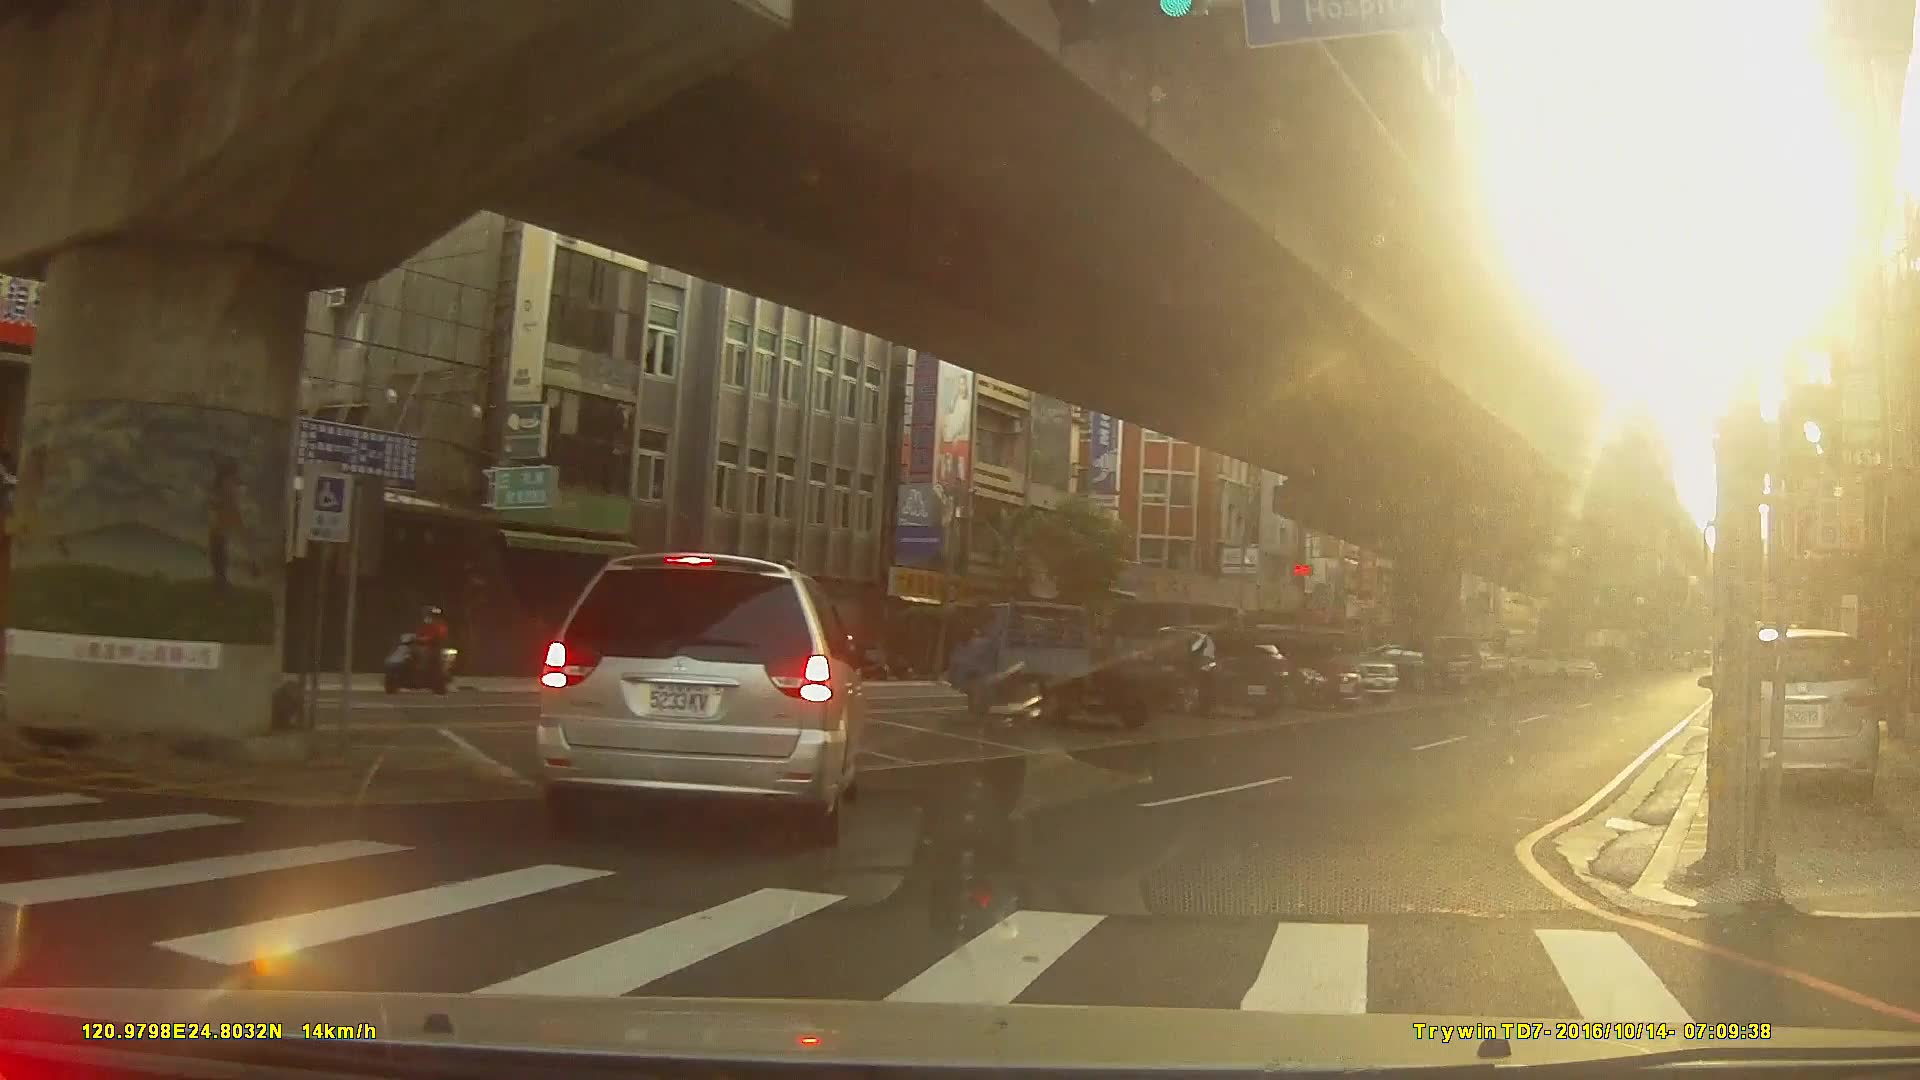rider: (385, 607, 458, 697)
vehicle: (537, 550, 868, 848), (1709, 624, 1882, 808), (948, 596, 1174, 723), (1117, 622, 1287, 718), (1207, 630, 1366, 709), (1347, 640, 1453, 693)
